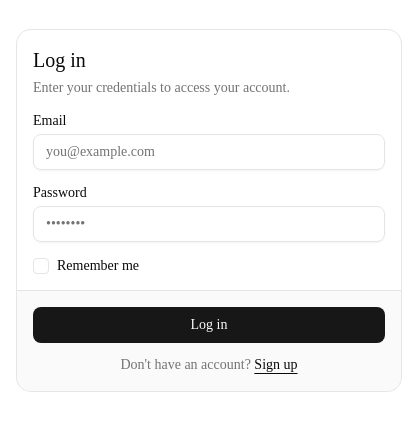
Test: LoginForm › shows a validation error for an invalid email and does not submit
The width and height of the screenshot is (419, 422).
Step 1. Type "not-an-email" into the field labelled "Email" → (209, 152), box [33, 134, 385, 170]
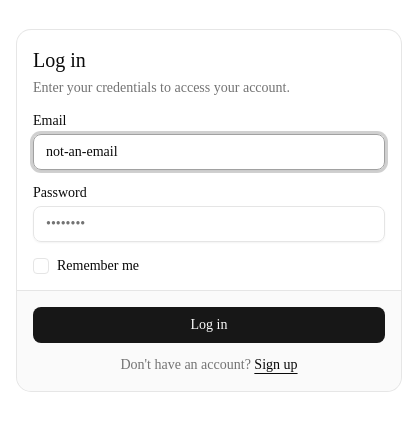
Step 2. Type "secret12" into the password field labelled "Password" → (209, 224), box [33, 206, 385, 242]
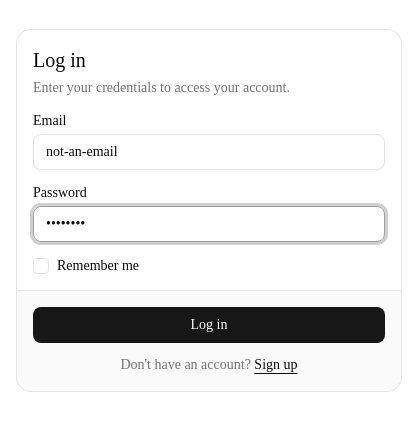
Step 3. Click the button "Log in" → click(209, 324), box [33, 306, 385, 342]
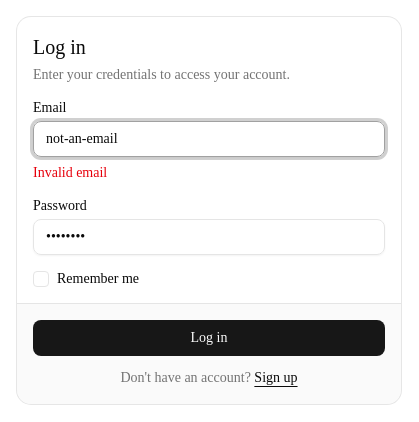
Now the text "Invalid email" is shown, box [33, 164, 107, 180]
